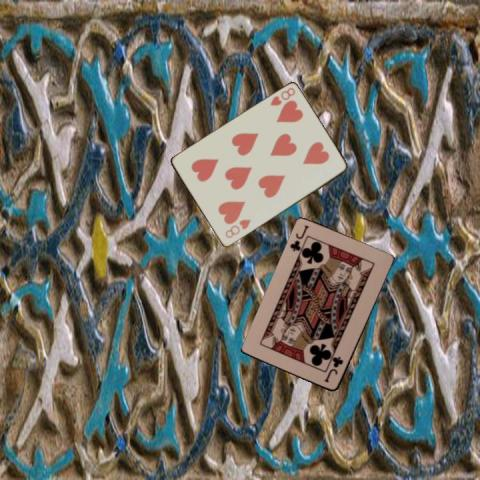8h: (222, 217, 252, 240), (267, 85, 297, 107)
Jc: (287, 223, 311, 253), (322, 353, 345, 384)
